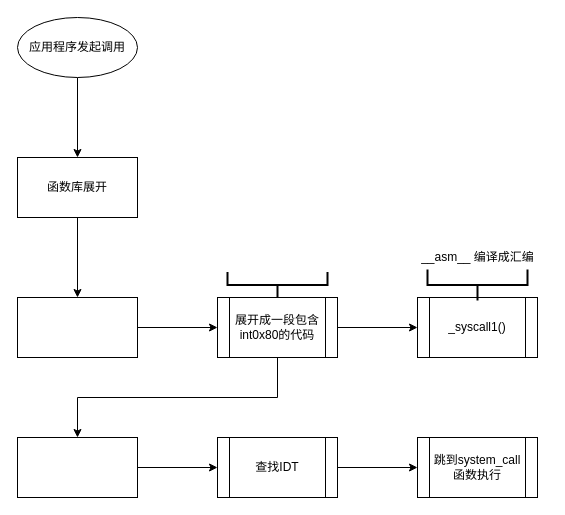
Some shapes in this 565 by 515 pixel diagram are drawn without their labels. The shapes that lost their labels are listed below. From the top down, each one's box as (x1, y1, x2, y2) in pixels, then its label:
(226, 270, 328, 298): _syscall1() _syscall2() _syscall3()
(16, 296, 138, 358): 调用相应的系统接口
(16, 436, 138, 498): 解释执行int0x80
